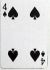four: (1, 1, 49, 69)
